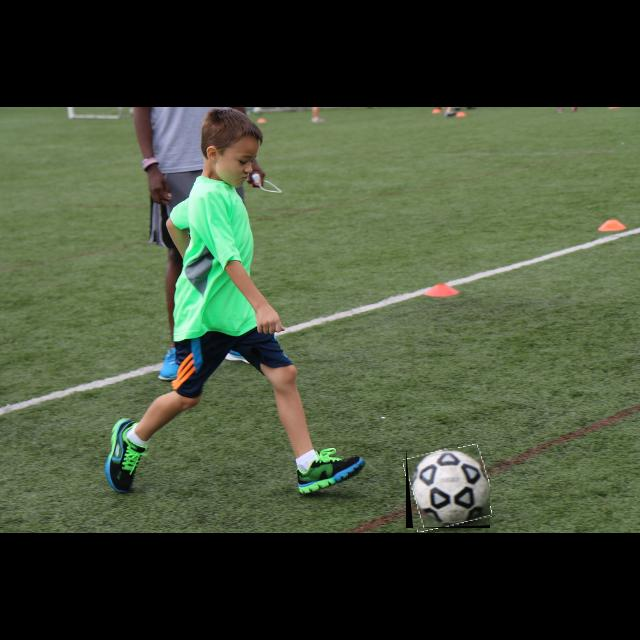Football: (406, 448, 490, 528)
